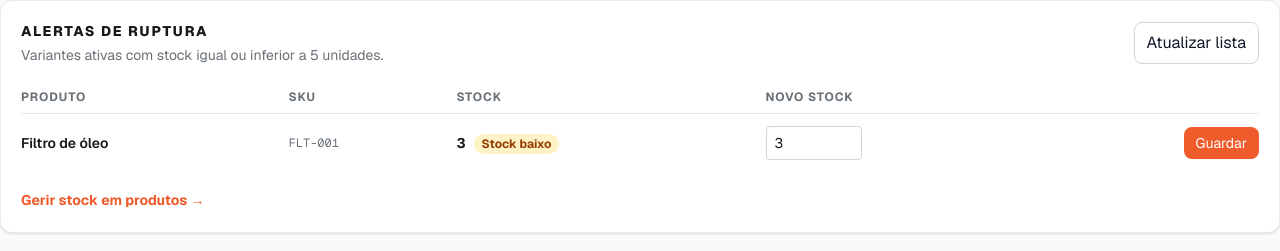
InventoryAlerts › remove a linha quando o novo stock passa o limiar
Replace the text in the number field named "Novo stock de FLT-001" with "40" at (814, 143), box 766,126 -> 862,160
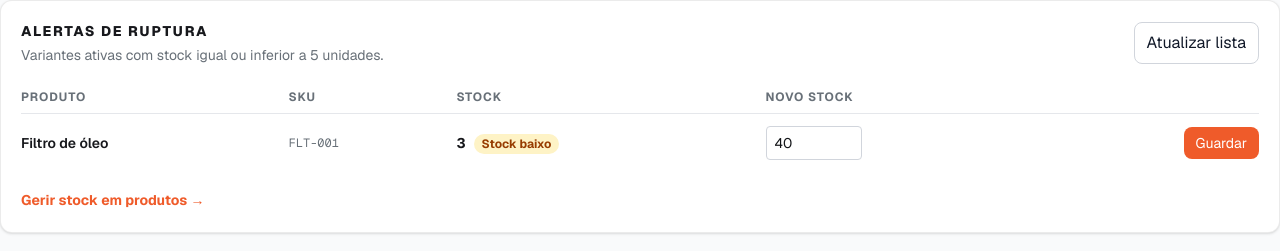
Click the button named "Guardar stock de FLT-001" at (1221, 143), box 1184,127 -> 1259,159
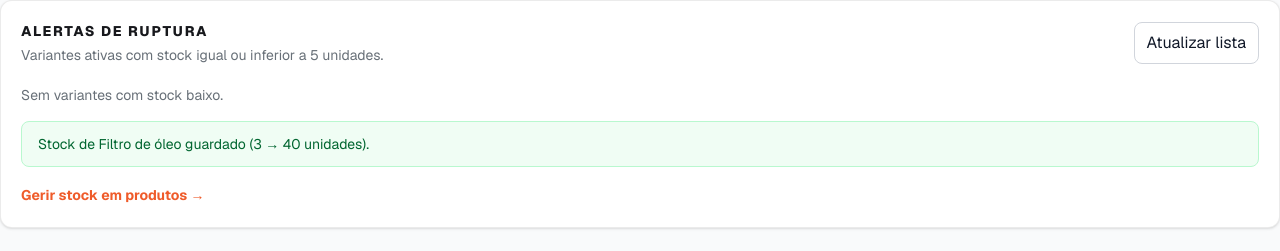
Check: the text "Stock de Filtro de óleo guardado (3 → 40 unidades)." is shown, box 21,121 -> 1259,167
Check: the text "Sem variantes com stock baixo." is shown, box 21,86 -> 223,104
